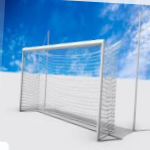goals: (16, 36, 125, 143)
